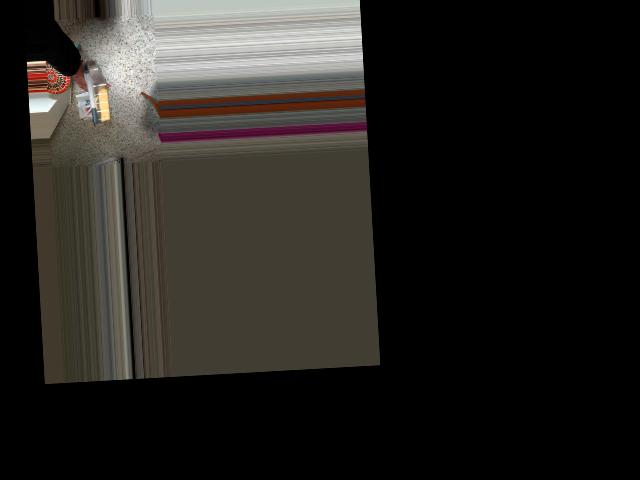cheese: (50, 71, 128, 127)
